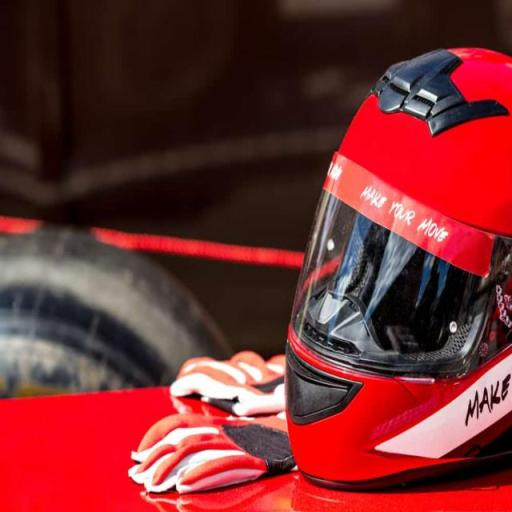Helmet: (273, 37, 512, 476)
